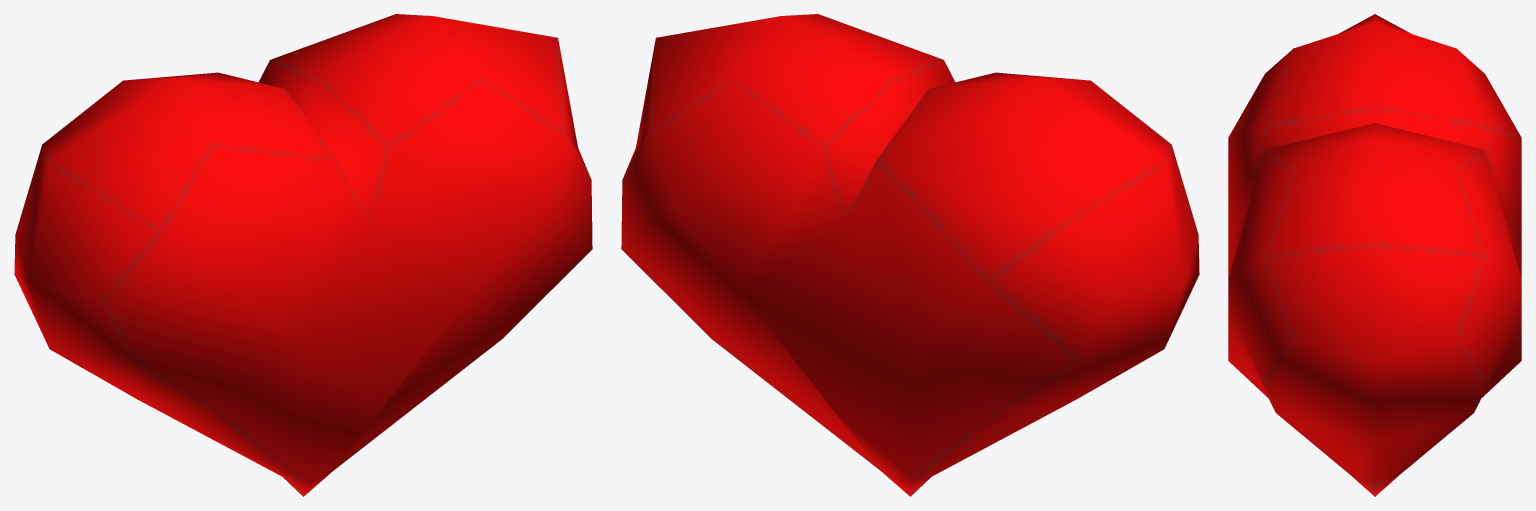
Rendered from heart_lo.obj.
3 renders of one model, left to right at view 1: azimuth 30°, elevation 25°; view 2: azimuth 150°, elevation 25°; view 3: azimuth 270°, elevation 25°, orthographic. The views are drawn at different scales.
Parts seen in each view (by area): view 1: pCube2; view 2: pCube2; view 3: pCube2.
Boxes of the visible parts, bbox=[...] form: pCube2: bbox=[14, 14, 592, 496]; pCube2: bbox=[621, 14, 1199, 496]; pCube2: bbox=[1228, 14, 1521, 496].
Bounding box in the file's own units: 2 × 1.57 × 1.
1 material, 1 textured.
